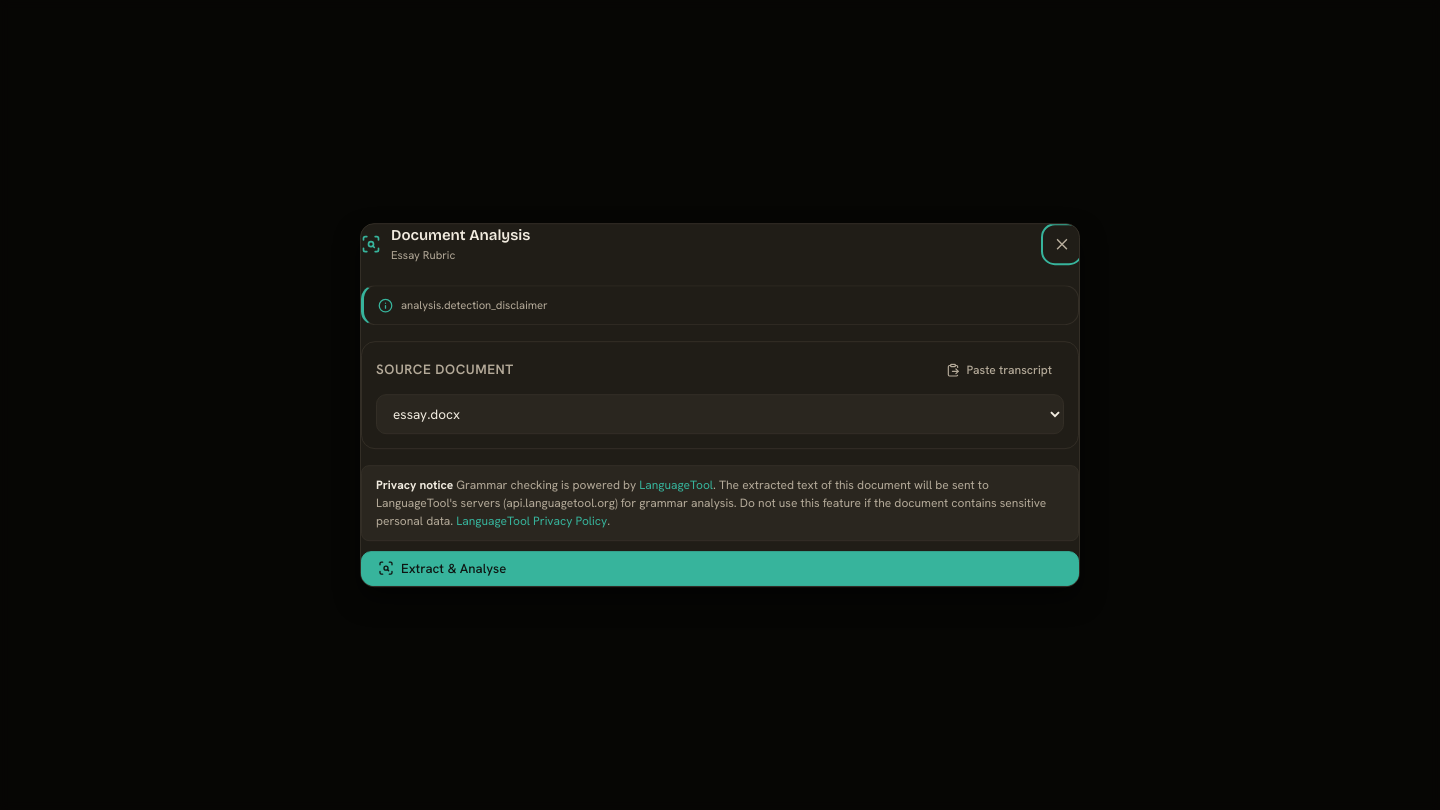
DocumentAnalysisPanel › analyses pasted transcript text and tags the result as "transcript"
Click the button "Paste transcript": (999,370) [934,356,1064,384]
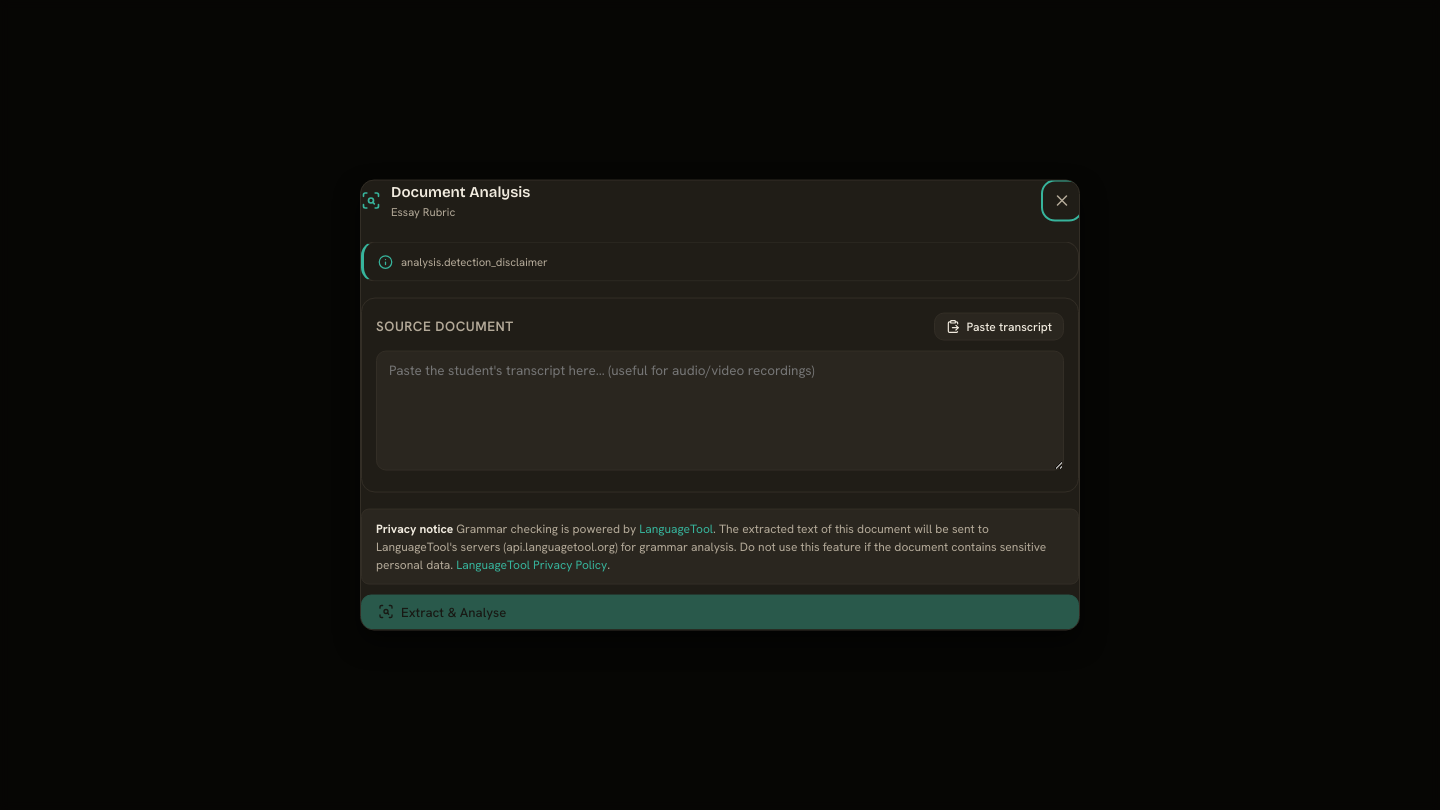
Replace the text in the text box with placeholder "Paste the student's transcript here" with "My spoken transcript content": (720,410) [376,350,1064,470]
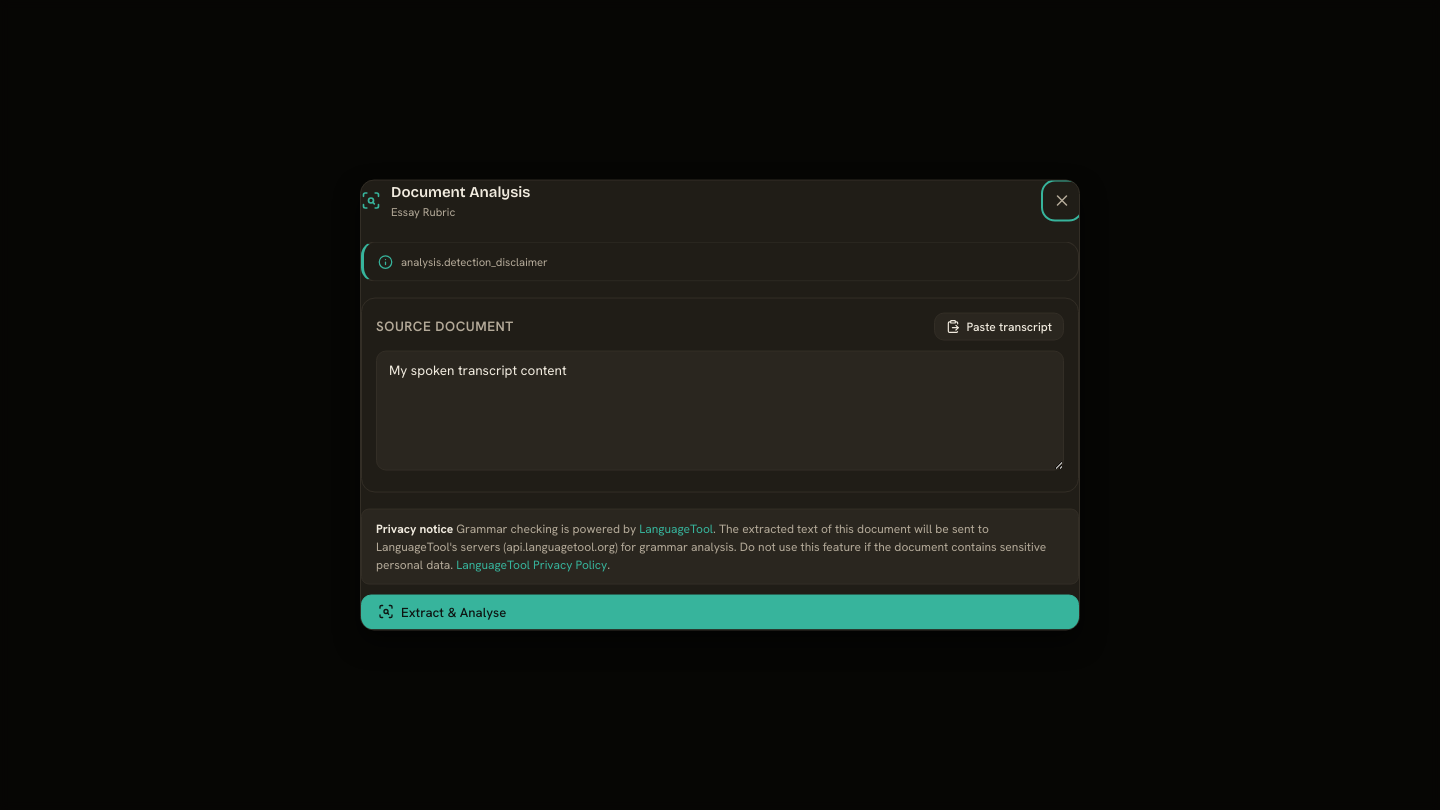
Click the button "Extract & Analyse": (454,612) [361,594,1079,630]
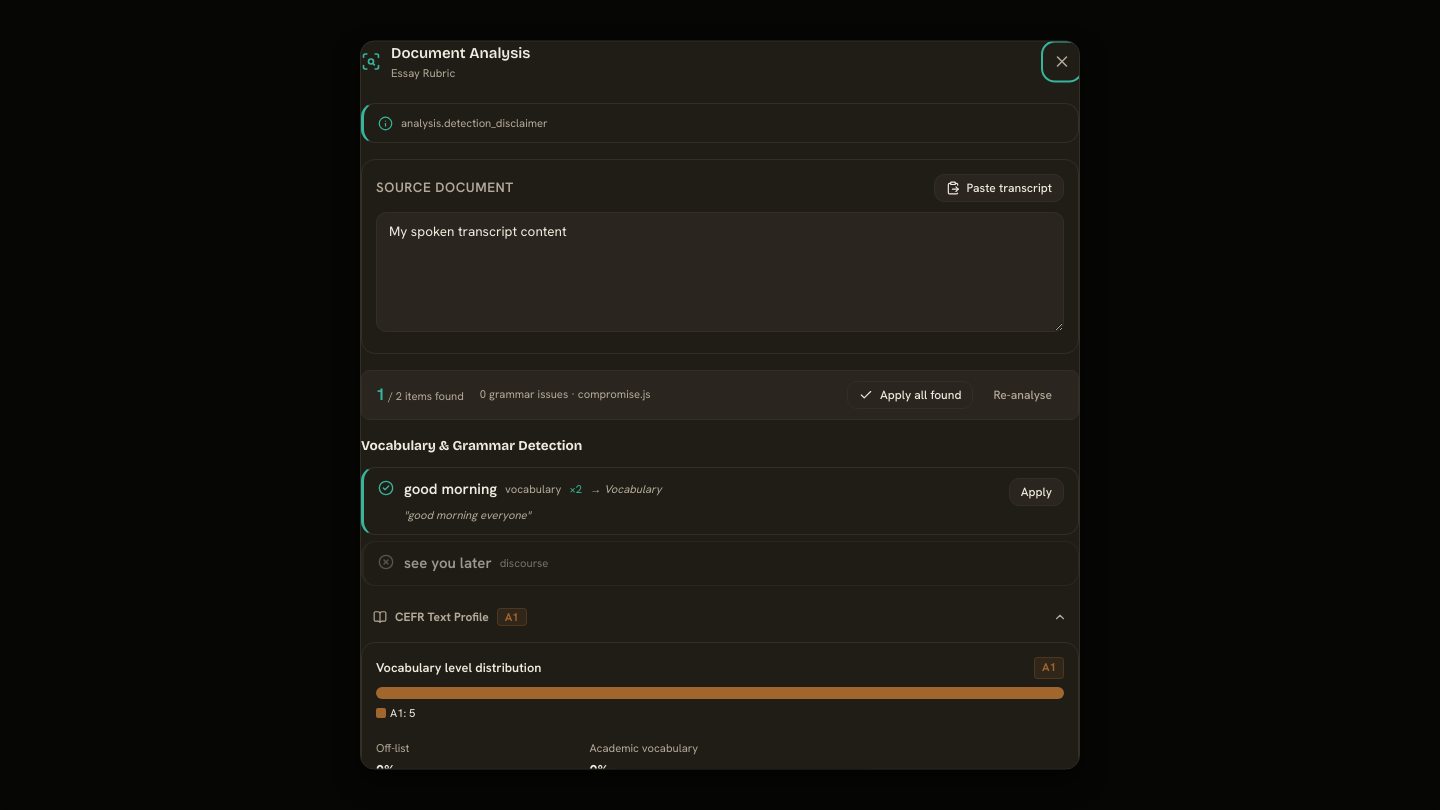
Now the text "/ 2 items found" is shown, box [385,389,464,403]
